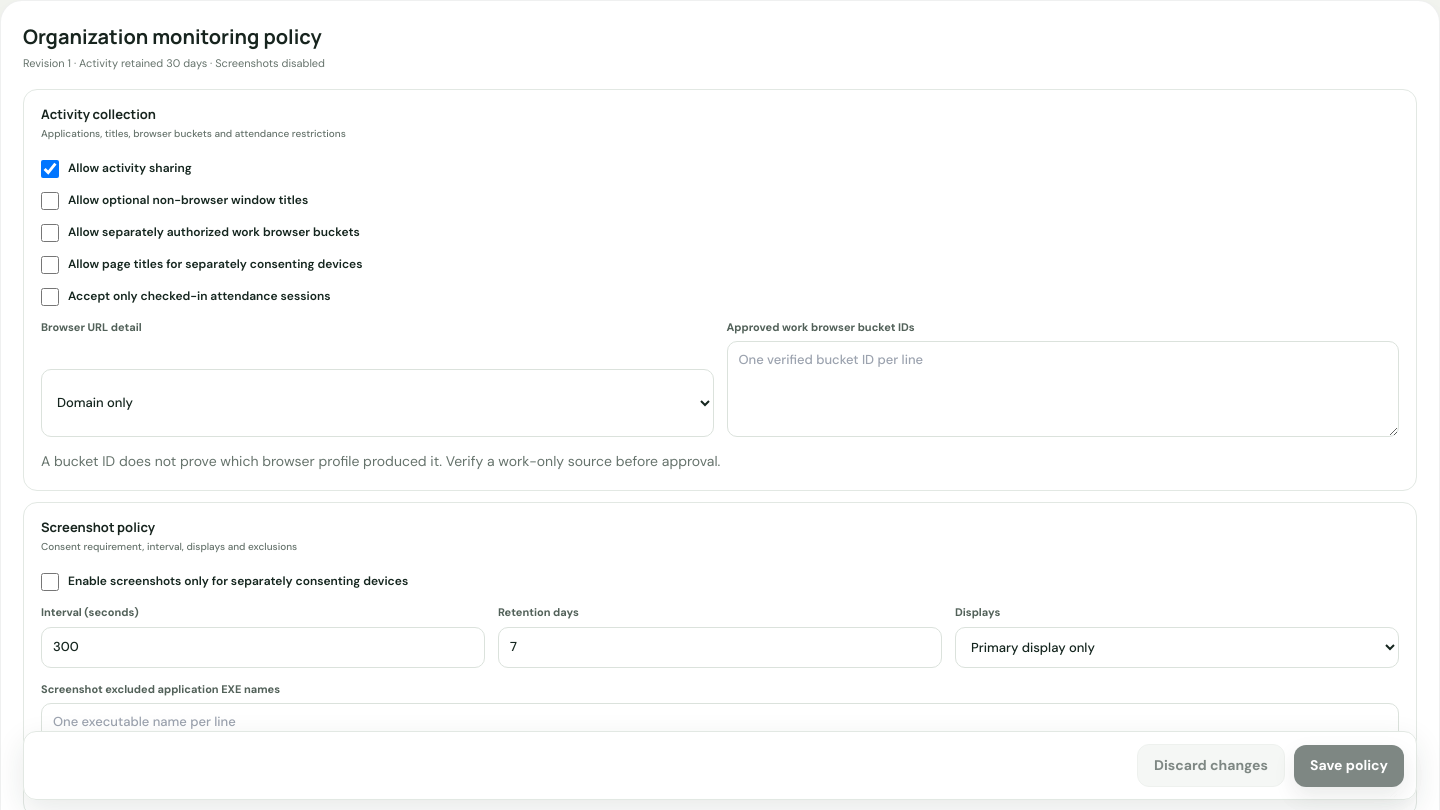
Test: screenshot policy control › keeps the checkbox selected after the policy is saved and refetched
Click the checkbox labelled "Enable screenshots only for separately consenting devices" at (50, 582), box [41,573,59,591]
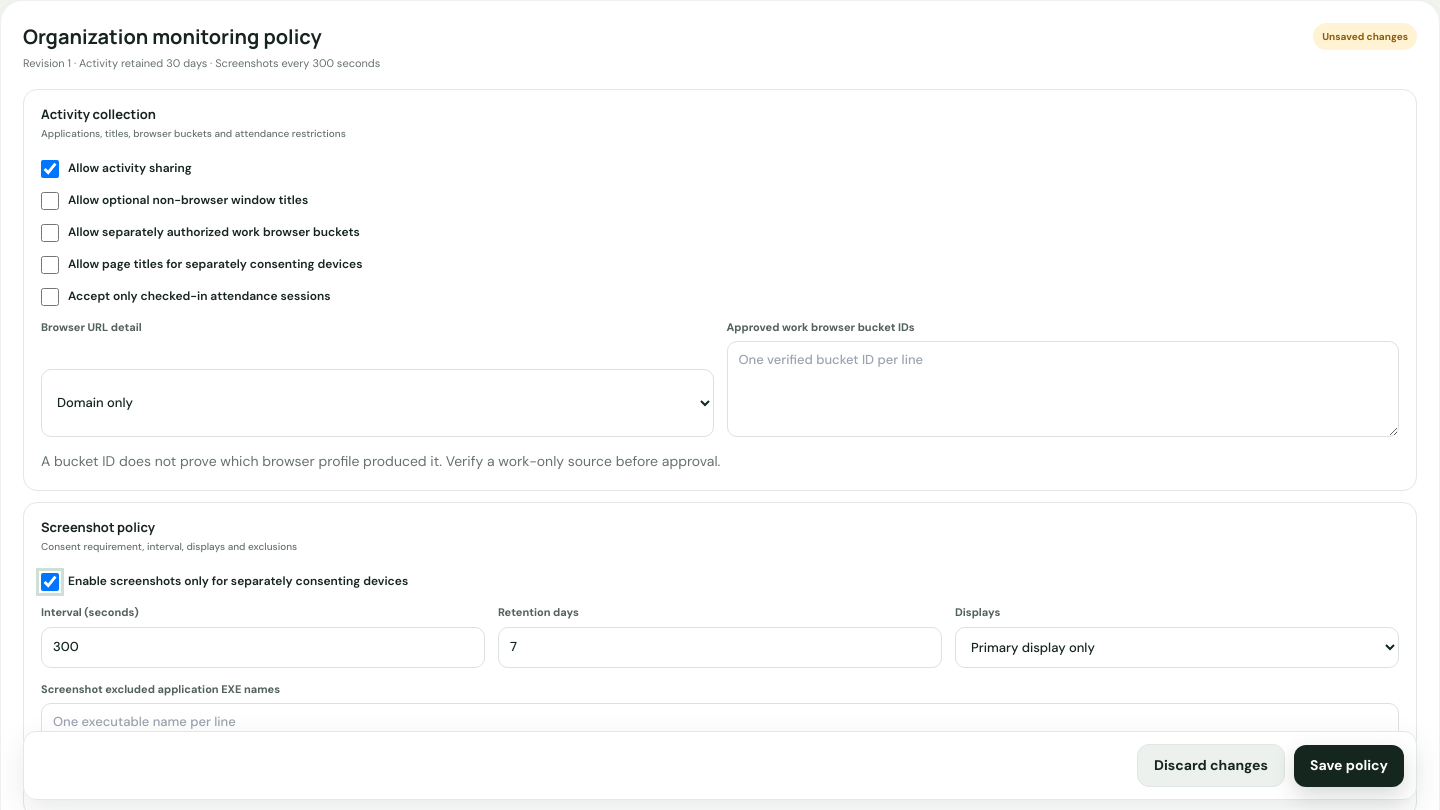
Result: the checkbox labelled "Enable screenshots only for separately consenting devices" is checked at [41,573,59,591]
Click the button "Save policy" at (1349, 766), box [1294,744,1404,786]
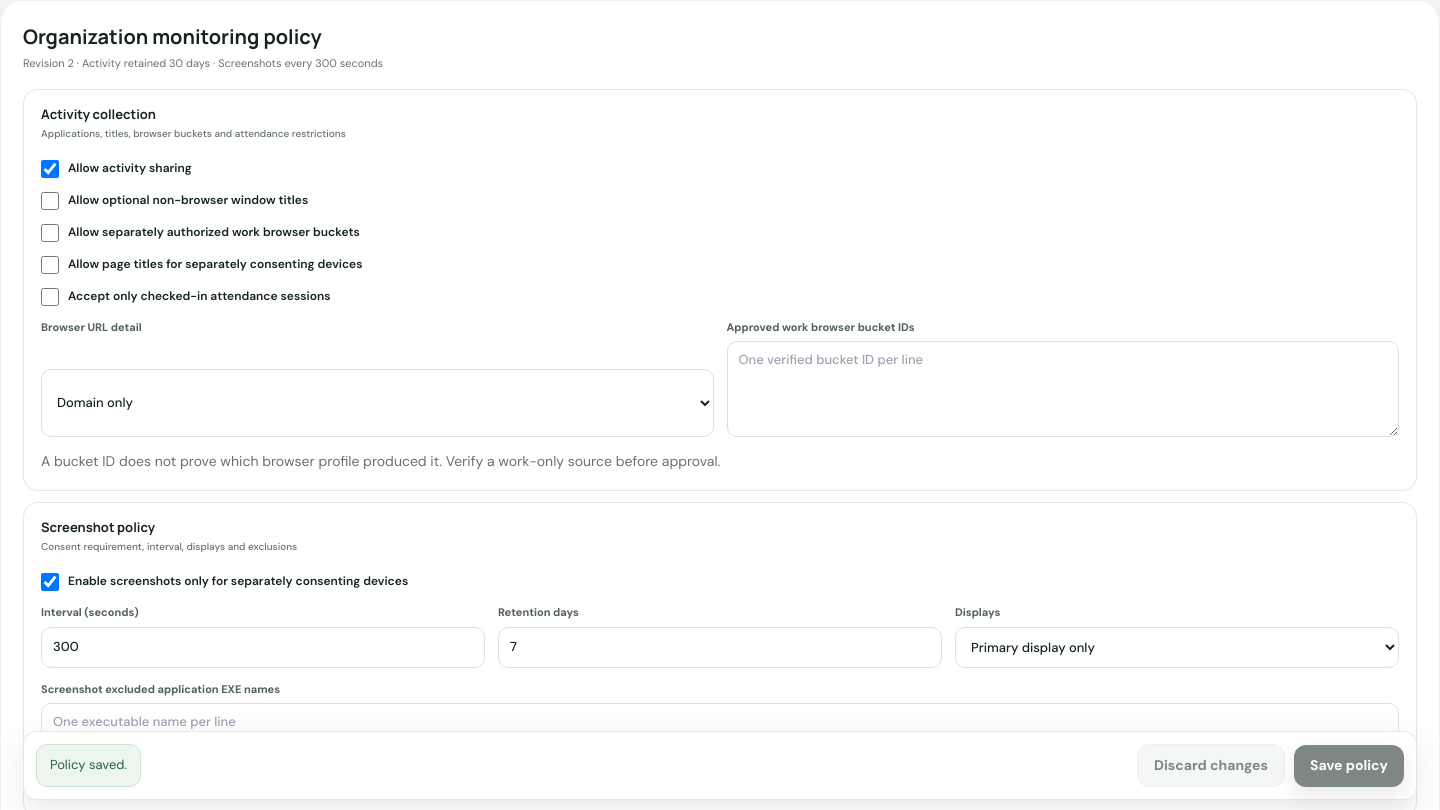
Result: the checkbox labelled "Enable screenshots only for separately consenting devices" is checked at [41,573,59,591]
Result: the message reads "Policy saved." at [50,756,127,773]
